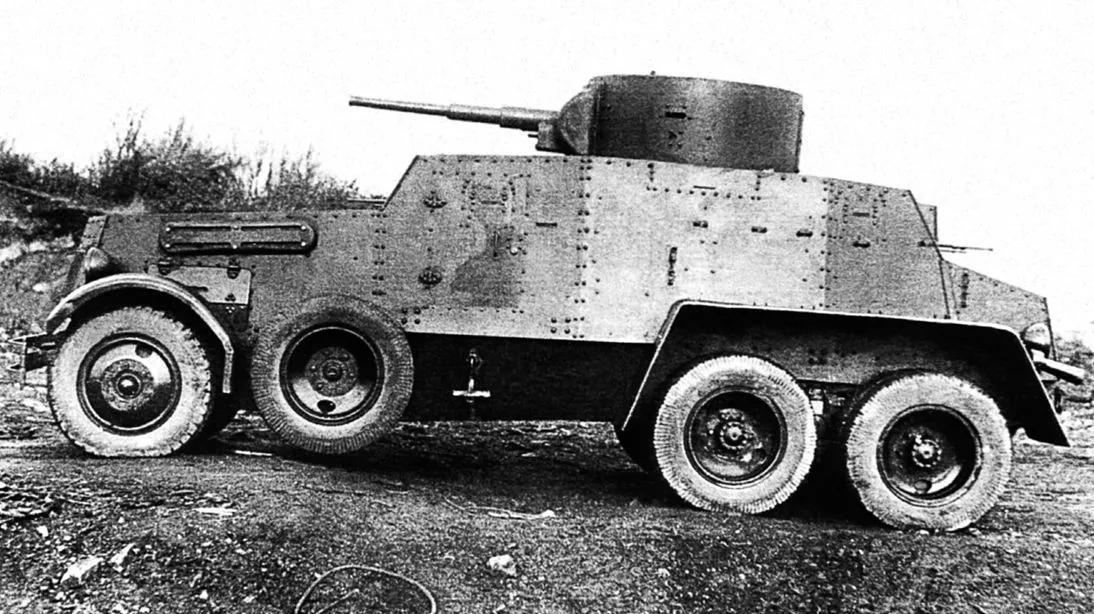MIL_IFV: (12, 69, 1081, 548)
